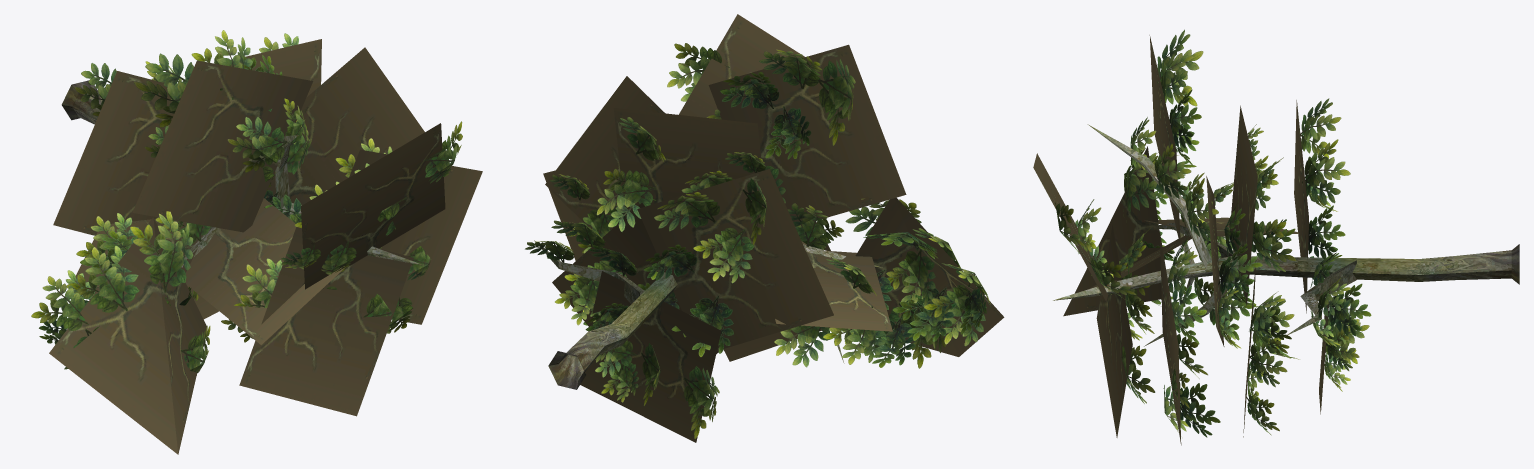
File: dayehehuan.obj
3 renders of one model, left to right at view 1: azimuth 30°, elevation 25°; view 2: azimuth 150°, elevation 25°; view 3: azimuth 270°, elevation 25°, orthographic. The views are drawn at different scales.
Visible parts, largest first — view 1: dayehehuan; view 2: dayehehuan; view 3: dayehehuan.
Boxes of the visible parts, x1,y1,x2,y2 form: dayehehuan: [31, 30, 482, 454]; dayehehuan: [525, 14, 1004, 442]; dayehehuan: [1033, 29, 1519, 445].
Size of the model in its own units: 309 by 248 by 308.
Materials: 3 (3 with a texture image).
